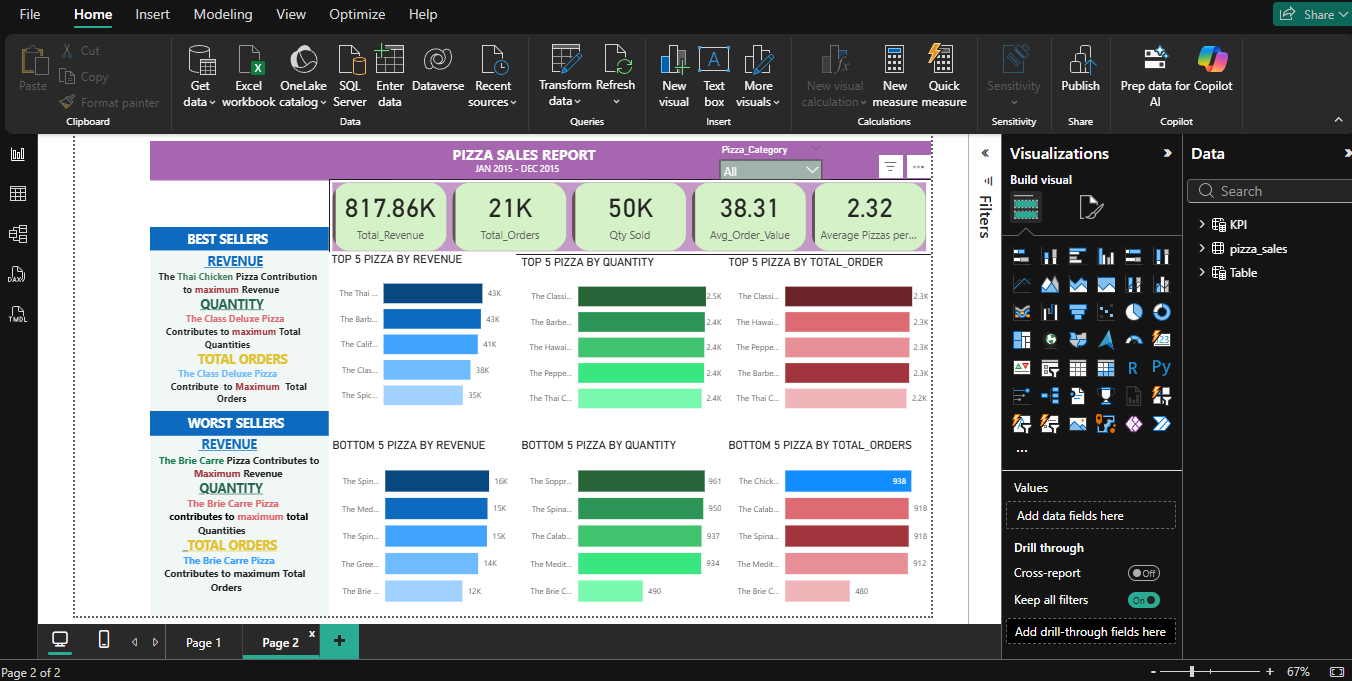

Layout of this report page (visuals, bound fields, positions):
{"tool":"powerbi","page":{"name":"Page 2","canvas":[1280,720],"ordinal":1},"visuals":[{"type":"textbox","box":[112.5,10.1,1167.5,58.8],"z":0},{"type":"cardVisual","fields":{"Data":["KPI.Total_Revenue","KPI.Total_Orders","KPI.Qty Sold","KPI.Avg_Order_Value","KPI.Average Pizzas per Order"]},"box":[379.1,67.6,900.7,113.1],"z":1000},{"type":"barChart","title":"TOP 5 PIZZA BY REVENUE","fields":{"Y":["KPI.Total_Revenue"],"Category":["pizza_sales.pizza_name"]},"box":[378.6,175.7,281.4,250],"z":2000},{"type":"barChart","title":"TOP 5 PIZZA BY QUANTITY","fields":{"Y":["KPI.Qty Sold"],"Category":["pizza_sales.pizza_name"]},"box":[661.8,181.4,309.1,250.3],"z":3000},{"type":"barChart","title":"TOP 5 PIZZA BY TOTAL_ORDER","fields":{"Category":["pizza_sales.pizza_name"],"Y":["KPI.Total_Orders"]},"box":[970.9,181.4,309.1,250.3],"z":4000},{"type":"barChart","title":"BOTTOM 5 PIZZA BY REVENUE","fields":{"Category":["pizza_sales.pizza_name"],"Y":["KPI.Total_Revenue"]},"box":[379.6,453.5,282.2,267.1],"z":5000},{"type":"barChart","title":"BOTTOM 5 PIZZA BY  QUANTITY","fields":{"Category":["pizza_sales.pizza_name"],"Y":["KPI.Qty Sold"]},"box":[661.8,453.5,309.1,267.1],"z":6000},{"type":"barChart","title":"BOTTOM 5  PIZZA BY TOTAL_ORDERS","fields":{"Category":["pizza_sales.pizza_name"],"Y":["KPI.Total_Orders"]},"box":[970.9,453.5,309.1,267.1],"z":7000},{"type":"textbox","box":[477.1,10.1,369.6,57.1],"z":8000},{"type":"slicer","title":"Price_Category","fields":{"Values":["pizza_sales.pizza_category"]},"box":[952.4,10.1,173,57.1],"z":9000},{"type":"textbox","box":[112.5,139.4,267.1,272.1],"z":10000},{"type":"textbox","box":[112.5,139.4,267.1,35.3],"z":11000},{"type":"textbox","box":[112.5,411.5,267.1,309.1],"z":12000},{"type":"textbox","box":[112.5,413.2,267.1,37],"z":13000}]}

Visuals, with their boxes on the page's 1280x720 design canvas (x1, y1, x2, y2). These are canvas units, not pixel positions in the 1352x681 screenshot, which may show the page scaled, cropped or inside an application window:
textbox: (x1=112, y1=10, x2=1280, y2=69)
cardVisual - KPI.Total_Revenue x KPI.Total_Orders: (x1=379, y1=68, x2=1280, y2=181)
"TOP 5 PIZZA BY REVENUE" barChart: (x1=379, y1=176, x2=660, y2=426)
"TOP 5 PIZZA BY QUANTITY" barChart: (x1=662, y1=181, x2=971, y2=432)
"TOP 5 PIZZA BY TOTAL_ORDER" barChart: (x1=971, y1=181, x2=1280, y2=432)
"BOTTOM 5 PIZZA BY REVENUE" barChart: (x1=380, y1=454, x2=662, y2=721)
"BOTTOM 5 PIZZA BY  QUANTITY" barChart: (x1=662, y1=454, x2=971, y2=721)
"BOTTOM 5  PIZZA BY TOTAL_ORDERS" barChart: (x1=971, y1=454, x2=1280, y2=721)
textbox: (x1=477, y1=10, x2=847, y2=67)
"Price_Category" slicer: (x1=952, y1=10, x2=1125, y2=67)
textbox: (x1=112, y1=139, x2=380, y2=412)
textbox: (x1=112, y1=139, x2=380, y2=175)
textbox: (x1=112, y1=412, x2=380, y2=721)
textbox: (x1=112, y1=413, x2=380, y2=450)
